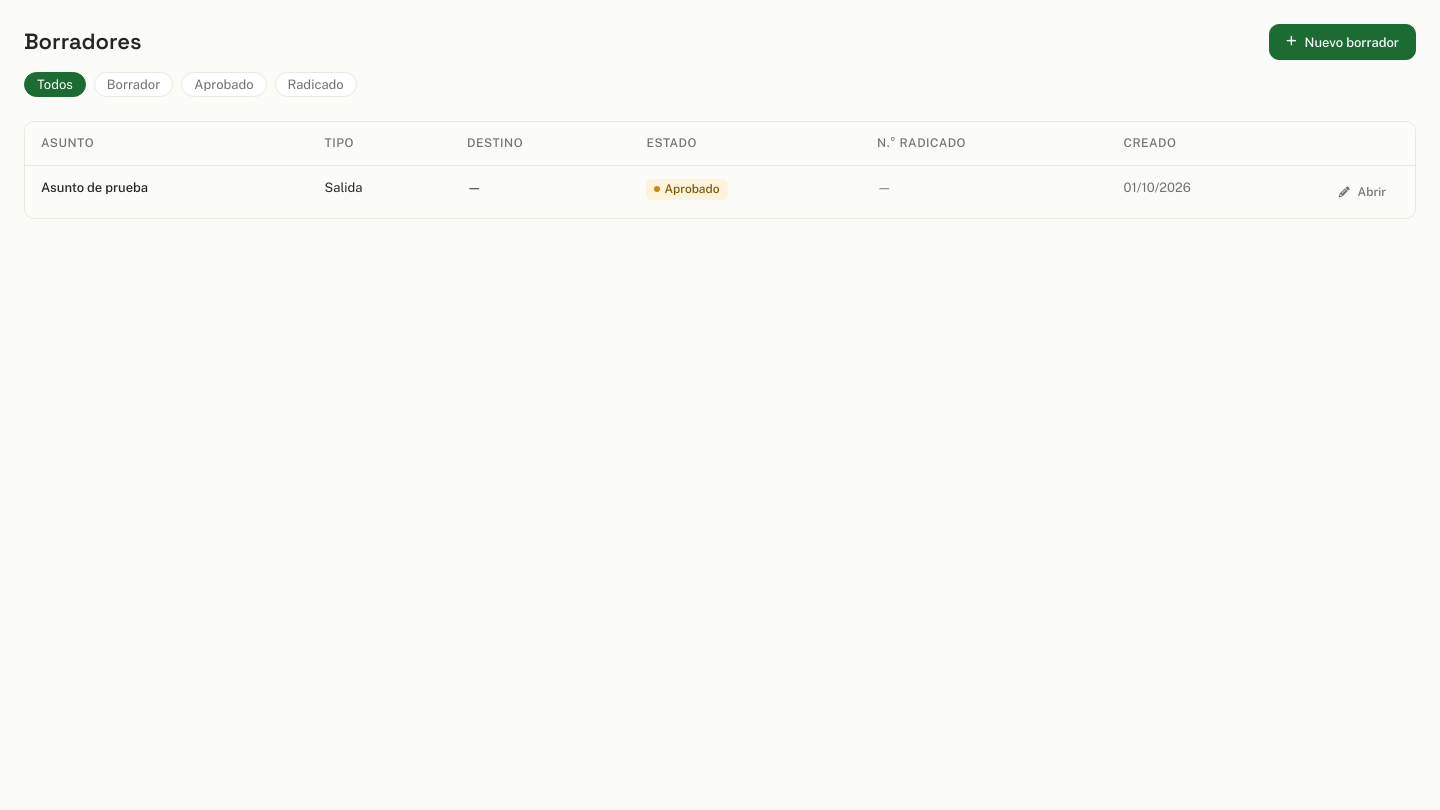
it: borradores — radicar con datos mínimos › sin contexto de dependencias cargado: aviso distinto, no afirma que no tenga dependencia
Step 1. Click the button named "Editar borrador Asunto de prueba" → click(1362, 192), box x1=1326 y1=178 x2=1399 y2=206
(page scrolled)
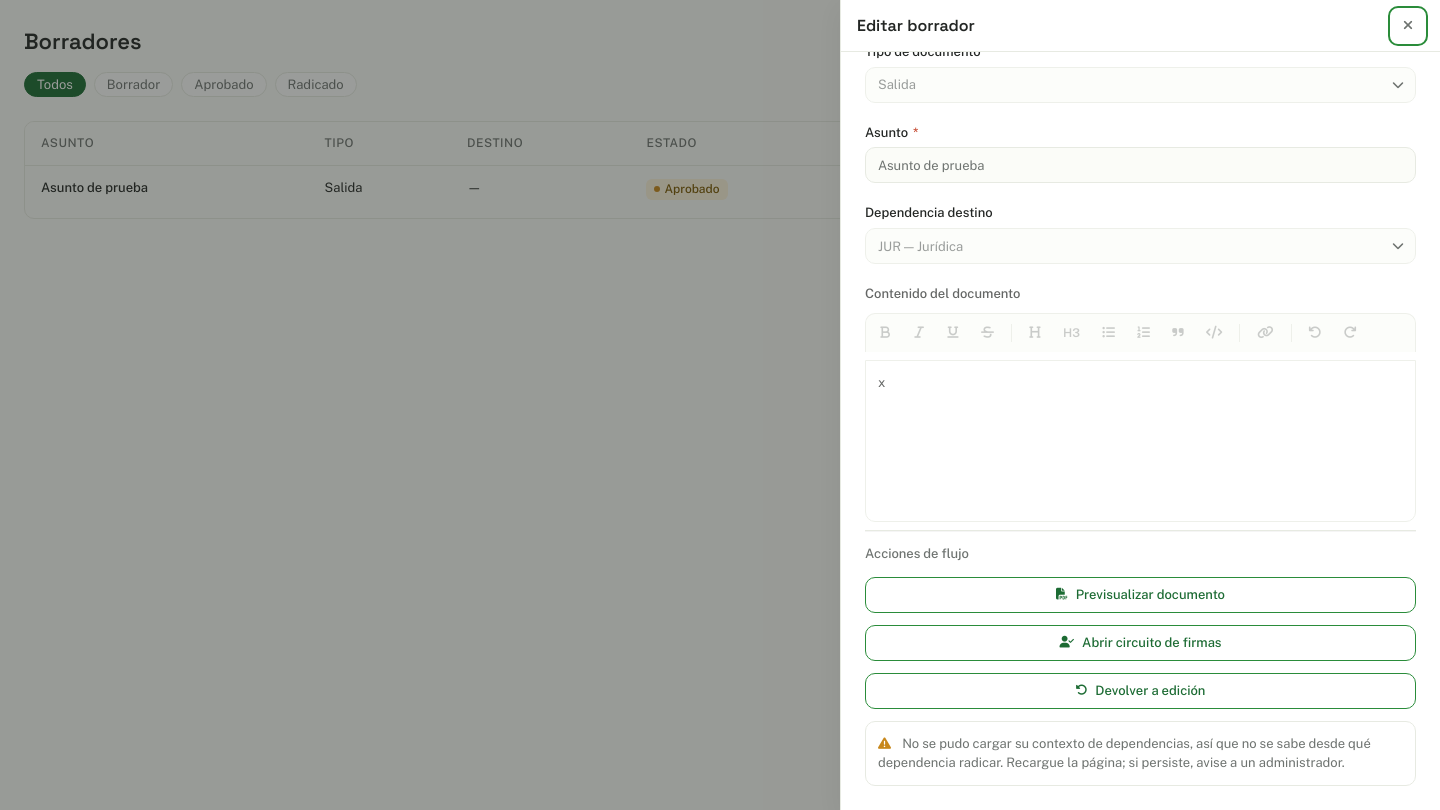
Now the text "No se pudo cargar su contexto de dependencias" is shown, box x1=878 y1=736 x2=1371 y2=770
